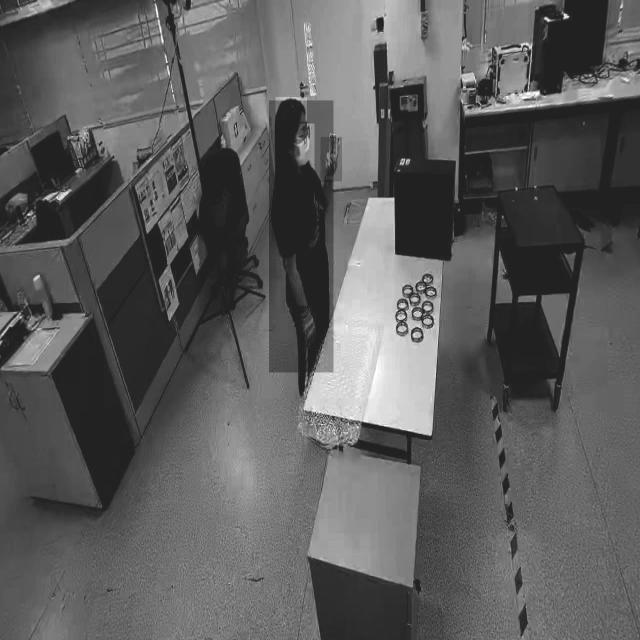face_mask: (291, 124, 315, 174)
glasses: (302, 122, 314, 148)
hand_glove: (320, 137, 342, 182), (297, 306, 319, 348)
head_nohelmet: (275, 97, 307, 123)
person: (268, 100, 334, 374)
